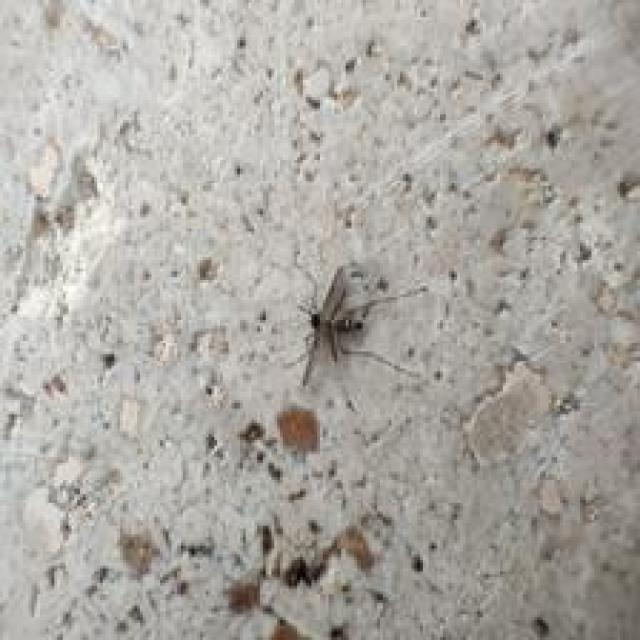Aedes albopictus: (292, 261, 428, 390)
